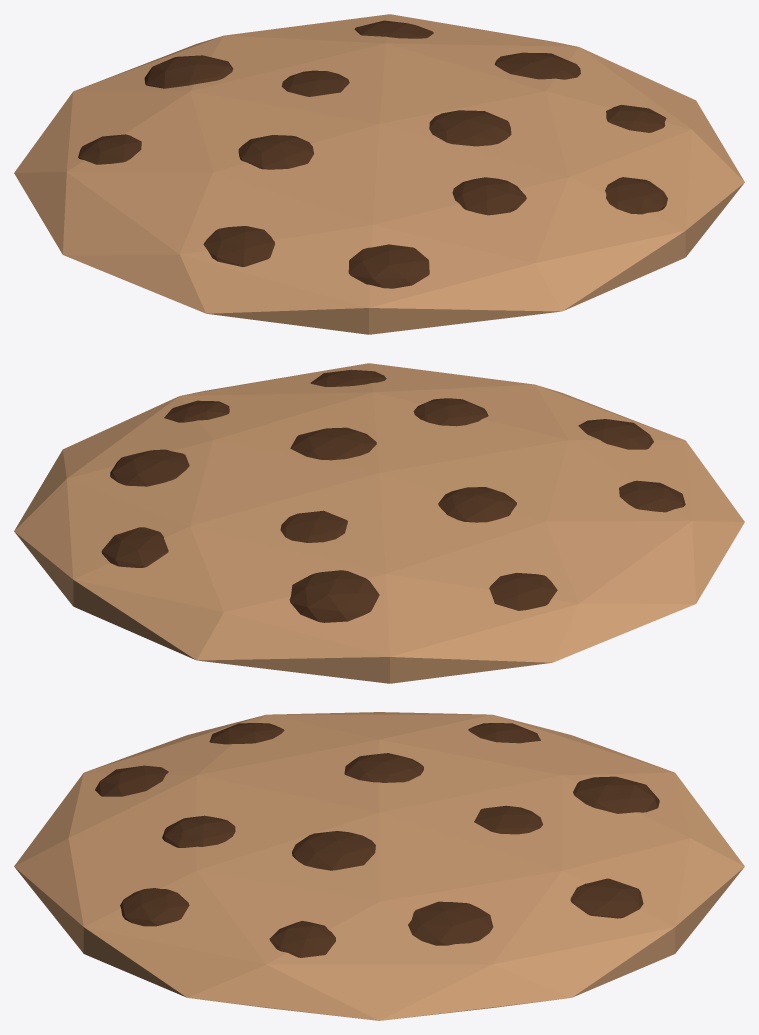
Rendered from Cookie.obj.
3 renders of one model, top to bottom at view 1: azimuth 30°, elevation 25°; view 2: azimuth 150°, elevation 25°; view 3: azimuth 270°, elevation 25°, orthographic.
Visible parts, largest first — view 1: Cookie; view 2: Cookie; view 3: Cookie.
Part boxes in pixels (x1,y1,x2,y2): Cookie: (14, 14, 744, 334); Cookie: (14, 363, 744, 683); Cookie: (14, 712, 744, 1020).
Bounding box in the file's own units: 0.5 × 0.0686 × 0.5.
